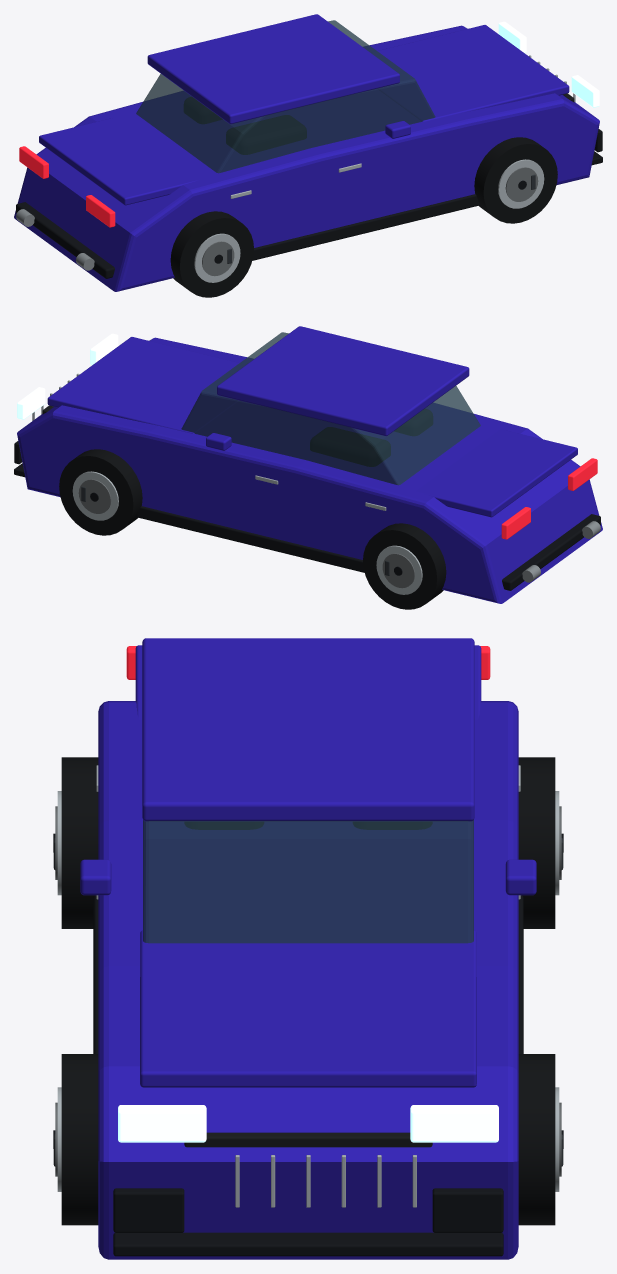
The model's file is ford_zx2.glb.
3 views of the same model, one above another, from view 1: azimuth 30°, elevation 25°; view 2: azimuth 150°, elevation 25°; view 3: azimuth 270°, elevation 25° (orthographic). The views are drawn at different scales.
Parts seen in each view (by area): view 1: sculpted_body, roof, glasshouse, hood_center, rear_deck, rear_right_wheel_tire, front_right_wheel_tire, side_skirt_1, seat_1, rear_diffuser, front_right_wheel_rim, rear_right_wheel_rim (+7 smaller); view 2: sculpted_body, roof, glasshouse, hood_center, rear_deck, rear_left_wheel_tire, front_left_wheel_tire, side_skirt_-1, seat_-1, rear_diffuser, front_left_wheel_rim, rear_left_wheel_rim (+7 smaller); view 3: sculpted_body, roof, hood_center, glasshouse, front_splitter, front_left_wheel_tire, front_right_wheel_tire, rear_left_wheel_tire, rear_right_wheel_tire, front_grille, headlight_left, headlight_right (+7 smaller).
Boxes of the visible parts, x1,y1,x2,y2 form: sculpted_body: (14,25,599,291); roof: (147,14,399,124); glasshouse: (136,20,435,173); hood_center: (372,25,569,121); rear_deck: (39,117,200,205); rear_right_wheel_tire: (170,211,253,297); front_right_wheel_tire: (474,137,557,223); side_skirt_1: (252,194,480,260); seat_1: (226,115,306,154); rear_diffuser: (16,202,114,278); front_right_wheel_rim: (498,159,544,208); rear_right_wheel_rim: (194,233,240,282); sculpted_body: (17,337,602,603); roof: (217,326,469,436); glasshouse: (181,332,480,485); hood_center: (47,337,244,433); rear_deck: (416,429,577,517); rear_left_wheel_tire: (363,523,446,609); front_left_wheel_tire: (59,449,142,535); side_skirt_-1: (136,506,364,572); seat_-1: (310,427,390,466); rear_diffuser: (502,514,600,590); front_left_wheel_rim: (72,471,118,520); rear_left_wheel_rim: (376,545,422,594); sculpted_body: (98,701,518,1259); roof: (142,638,474,821); hood_center: (140,930,476,1087); glasshouse: (143,820,473,943); front_splitter: (113,1232,503,1256); front_left_wheel_tire: (518,1054,555,1225); front_right_wheel_tire: (61,1054,98,1225); rear_left_wheel_tire: (518,757,555,928); rear_right_wheel_tire: (61,757,98,928); front_grille: (184,1132,432,1147); headlight_left: (410,1105,498,1142); headlight_right: (118,1105,206,1142).
Bounding box in the file's own units: 4.92 × 1.47 × 2.14.
